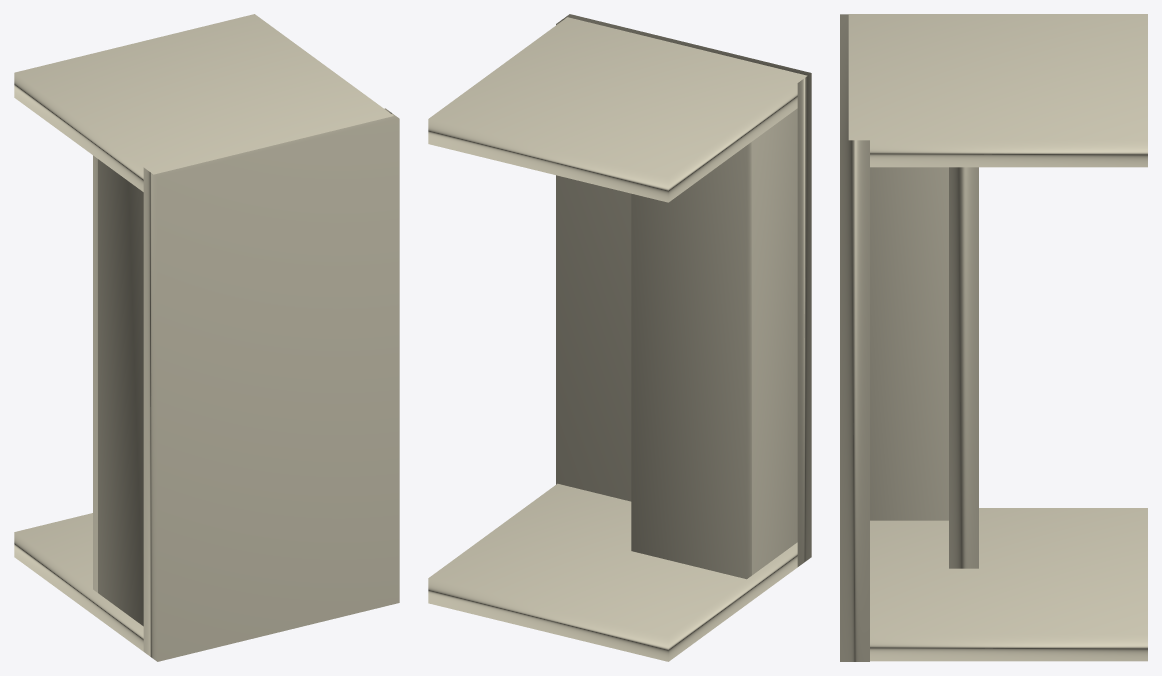
File: ProgrammingDesk.fbx
3 renders of one model, left to right at view 1: azimuth 30°, elevation 25°; view 2: azimuth 150°, elevation 25°; view 3: azimuth 270°, elevation 25°, orthographic. The views are drawn at different scales.
Visible parts, largest first — view 1: Cube_001, Cube_002, Cube_004, Cube, Cube_003; view 2: Cube_003, Cube_002, Cube, Cube_001, Cube_004; view 3: Cube_002, Cube, Cube_004, Cube_001, Cube_003.
Boxes of the visible parts, <box> form: Cube_001: <box>143,108,399,661</box>; Cube_002: <box>14,14,393,191</box>; Cube_004: <box>98,159,143,626</box>; Cube: <box>14,513,143,651</box>; Cube_003: <box>93,155,97,592</box>; Cube_003: <box>631,142,751,579</box>; Cube_002: <box>428,17,807,202</box>; Cube: <box>428,483,797,661</box>; Cube_001: <box>556,14,811,566</box>; Cube_004: <box>752,108,797,575</box>; Cube_002: <box>848,14,1147,167</box>; Cube: <box>870,508,1147,661</box>; Cube_004: <box>870,167,948,520</box>; Cube_001: <box>840,14,869,661</box>; Cube_003: <box>949,167,978,568</box>.
Bounding box in the file's own units: 2.01 × 3.84 × 2.06.
